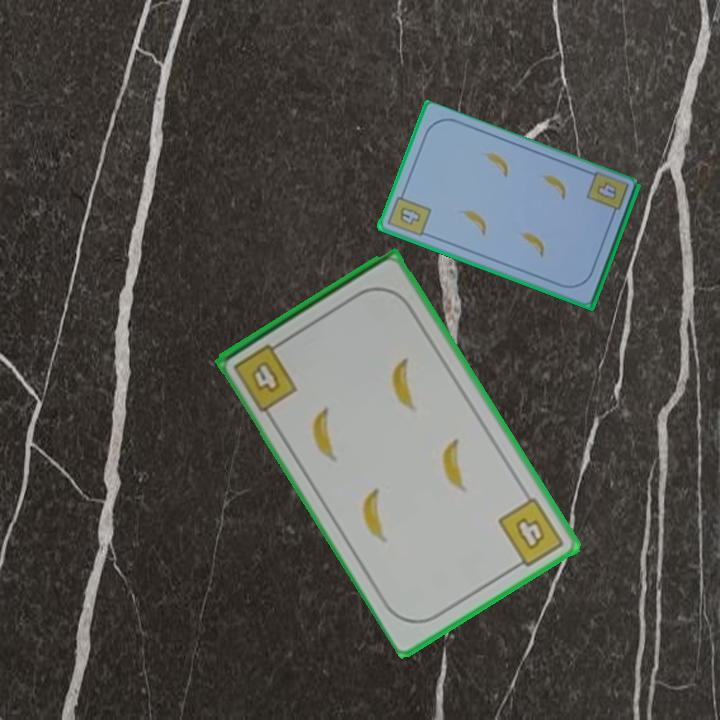4b: (495, 493, 568, 573), (230, 336, 301, 415), (384, 187, 434, 240), (592, 178, 619, 204)
